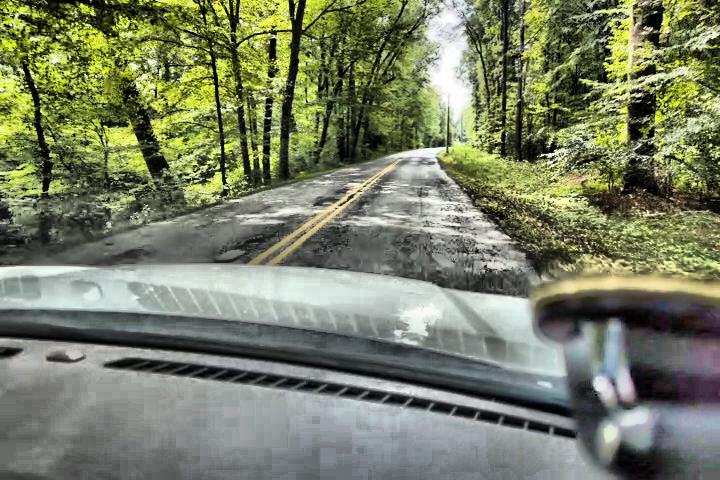pothole: (247, 234, 264, 247), (337, 183, 350, 194)
